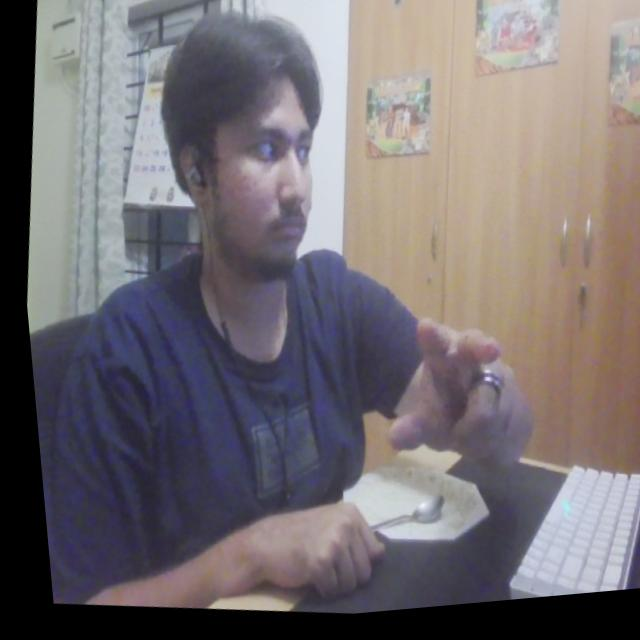no: (359, 306, 545, 504)
